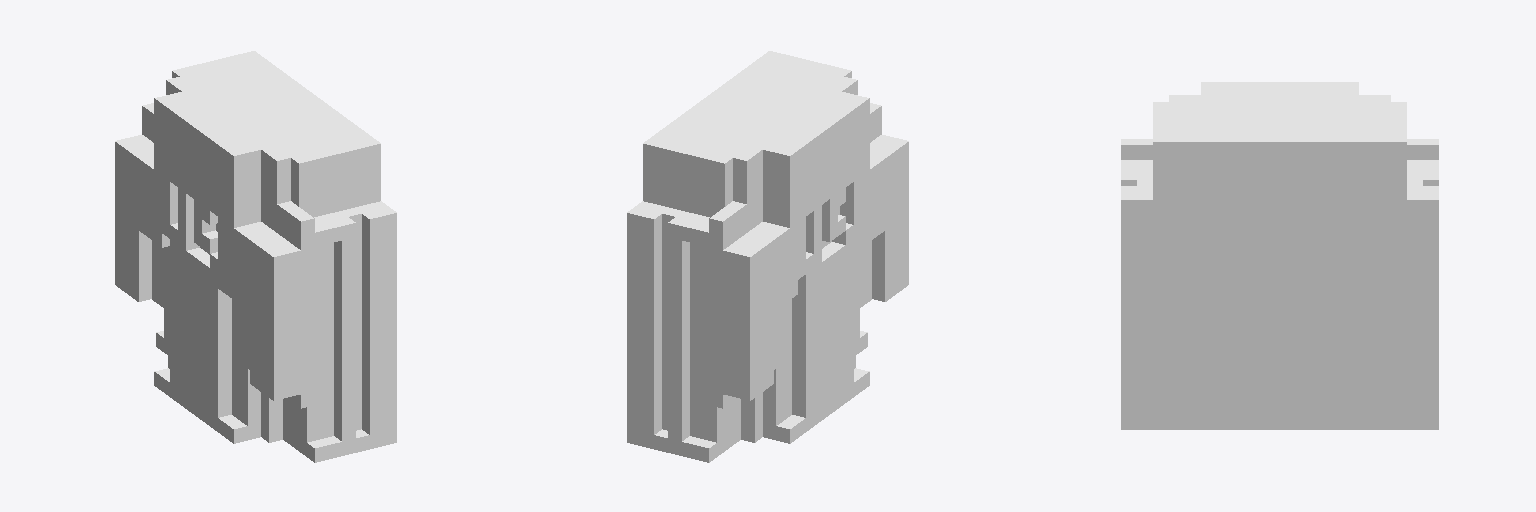
Rendered from LargeShadow.obj.
3 renders of one model, left to right at view 1: azimuth 30°, elevation 25°; view 2: azimuth 150°, elevation 25°; view 3: azimuth 270°, elevation 25°, orthographic.
Visible parts, largest first — view 1: object 1; view 2: object 1; view 3: object 1.
Part boxes in pixels (x1,y1,x2,y2): object 1: (115,51,396,462); object 1: (627,51,908,462); object 1: (1121,82,1438,429).
Bounding box in the file's own units: 0.9 × 2 × 2.